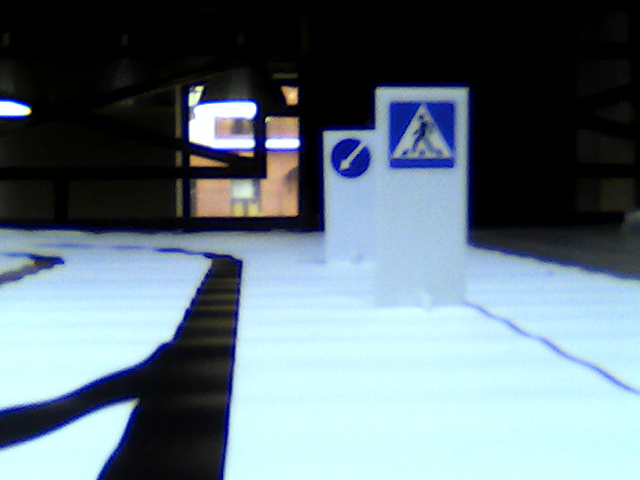pesh: (390, 100, 455, 169)
prep: (329, 138, 372, 180)
